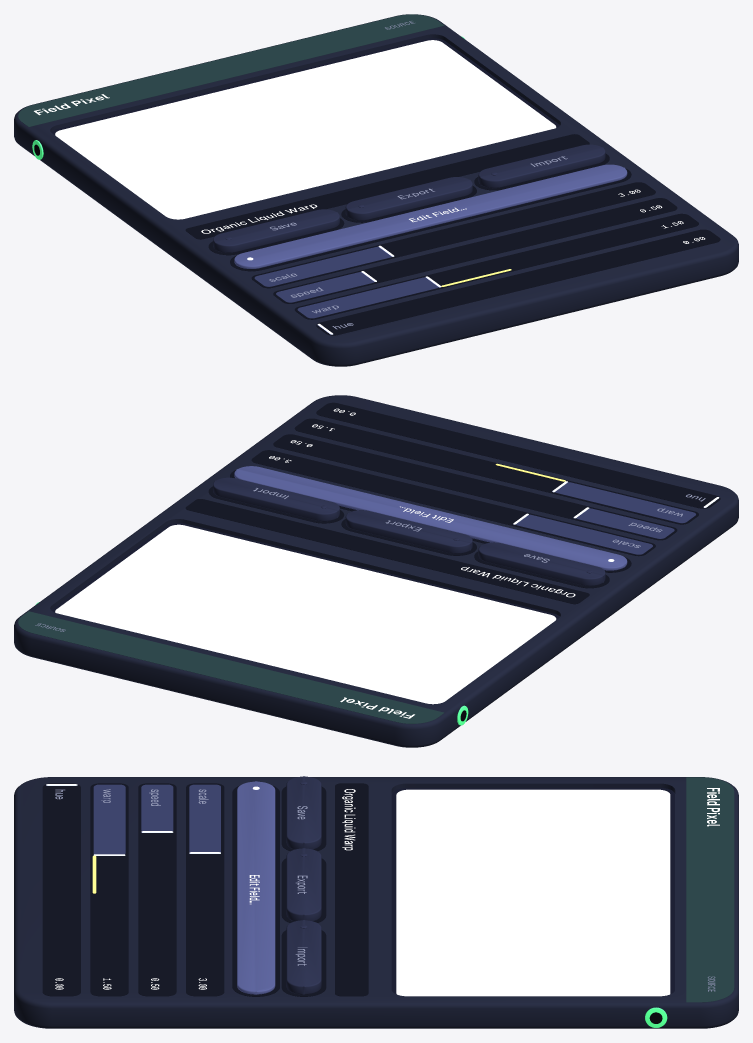
The model's file is node_field_pixel.glb.
The picture shows the model from 3 angles, top to bottom: view 1: azimuth 30°, elevation 25°; view 2: azimuth 150°, elevation 25°; view 3: azimuth 270°, elevation 25°; orthographic projection. The views are drawn at different scales.
Visible parts, largest first — view 1: preview, card.002, title_strip.002, b_edit, s_hue_well, s_speed_well, d_preset, s_scale_well, s_warp_well, b_import, b_export, b_save (+5 smaller); view 2: card.002, preview, title_strip.002, b_edit, s_hue_well, d_preset, s_speed_well, s_scale_well, s_warp_well, b_save, b_export, b_import (+4 smaller); view 3: preview, card.002, title_strip.002, s_hue_well, b_edit, d_preset, s_speed_well, s_scale_well, s_warp_well, well_0.001, b_import, b_export (+8 smaller).
Part boxes in pixels (<box>): preview: <box>55,40,556,219</box>; card.002: <box>14,14,738,366</box>; title_strip.002: <box>18,14,444,126</box>; b_edit: <box>234,164,627,268</box>; s_hue_well: <box>316,229,720,335</box>; s_speed_well: <box>273,198,677,303</box>; d_preset: <box>185,134,589,239</box>; s_scale_well: <box>251,182,655,288</box>; s_warp_well: <box>294,213,698,319</box>; b_import: <box>478,144,605,188</box>; b_export: <box>345,177,472,220</box>; b_save: <box>213,209,339,252</box>; card.002: <box>14,395,738,747</box>; preview: <box>55,524,556,704</box>; title_strip.002: <box>18,611,444,723</box>; b_edit: <box>234,466,627,570</box>; s_hue_well: <box>316,402,720,508</box>; d_preset: <box>185,499,589,604</box>; s_speed_well: <box>273,434,677,540</box>; s_scale_well: <box>251,450,655,556</box>; s_warp_well: <box>294,418,698,524</box>; b_save: <box>478,542,605,585</box>; b_export: <box>345,510,472,553</box>; b_import: <box>213,477,339,521</box>; preview: <box>396,789,670,996</box>; card.002: <box>14,777,738,1028</box>; title_strip.002: <box>686,777,734,1002</box>; s_hue_well: <box>42,783,80,996</box>; b_edit: <box>237,781,275,994</box>; d_preset: <box>335,783,368,996</box>; s_speed_well: <box>138,783,176,996</box>; s_scale_well: <box>186,783,224,996</box>; s_warp_well: <box>90,783,128,996</box>; well_0.001: <box>391,788,674,994</box>; b_import: <box>286,920,321,994</box>; b_export: <box>286,848,321,921</box>.
Size of the model in its own units: 0.3427 by 0.0245 by 0.455.
